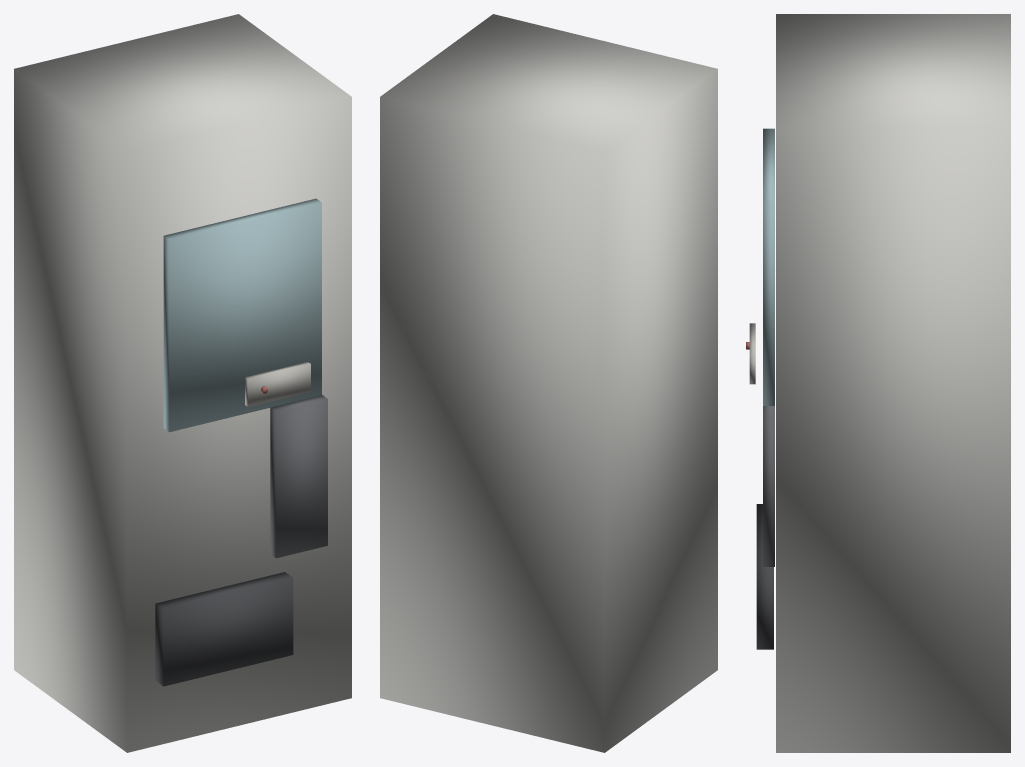
Rendered from motel_ice_machine__tall.glb.
3 renders of one model, left to right at view 1: azimuth 30°, elevation 25°; view 2: azimuth 150°, elevation 25°; view 3: azimuth 270°, elevation 25°, orthographic. The views are drawn at different scales.
Parts seen in each view (by area): view 1: world; view 2: world; view 3: world.
Boxes of the visible parts, x1,y1,x2,y2 form: world: [14, 14, 351, 752]; world: [380, 14, 717, 752]; world: [746, 14, 1010, 752].
Size of the model in its own units: 0.78 by 2 by 0.766.
